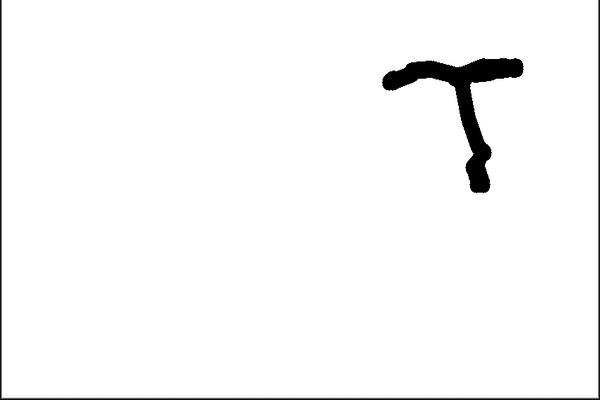T: (375, 46, 543, 193)
